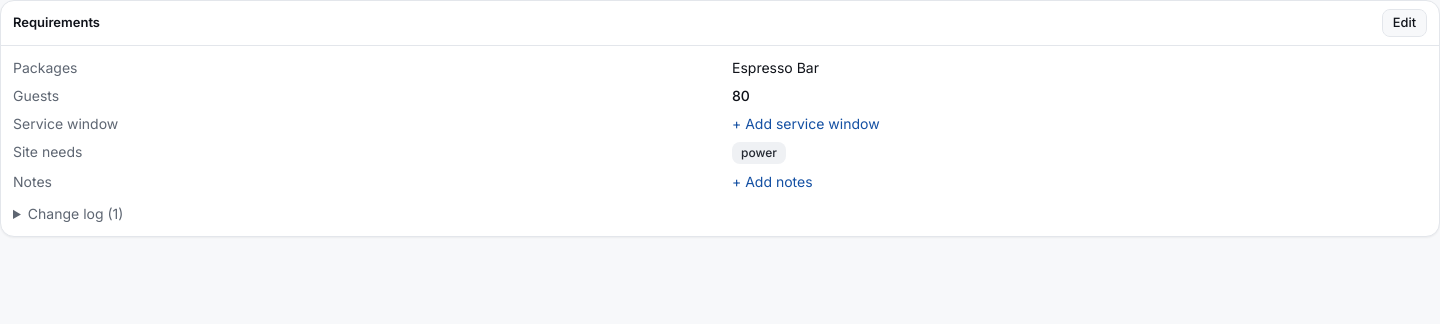
Test case: RequirementsCard › resets the draft on Cancel so re-opening Edit shows the original value
Step 1. Click the button "Edit" → (1404, 23), box [1382,9,1427,37]
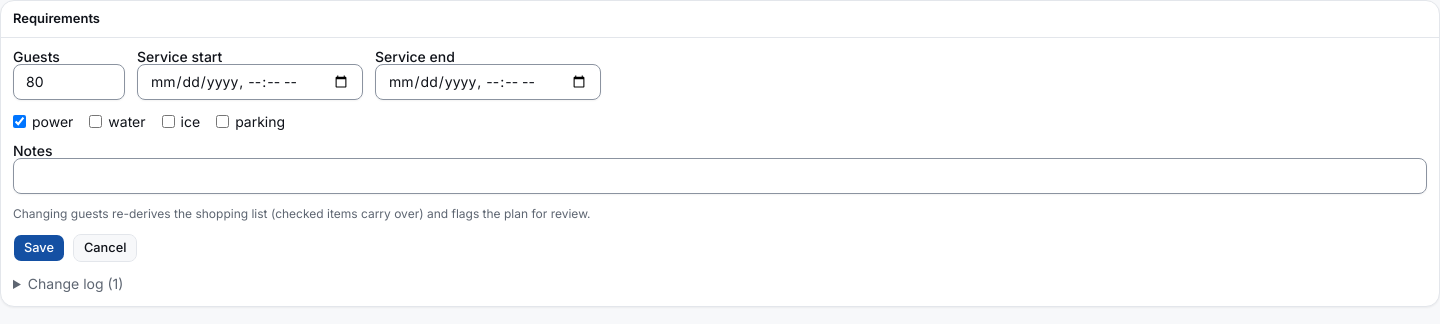
Step 2. Replace the text in the number field labelled "Guests" with "500" → (69, 82), box [13,64,125,100]
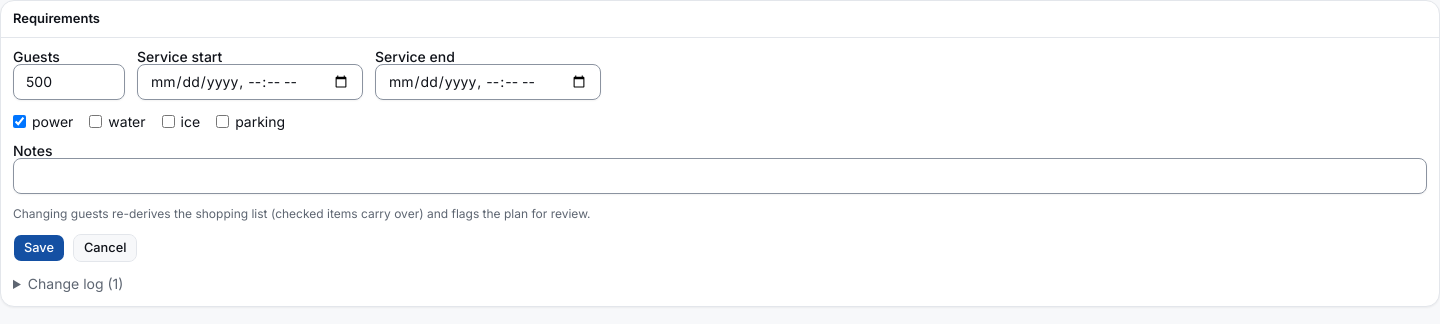
Step 3. Click the button "Cancel" → (105, 248), box [73,234,138,262]
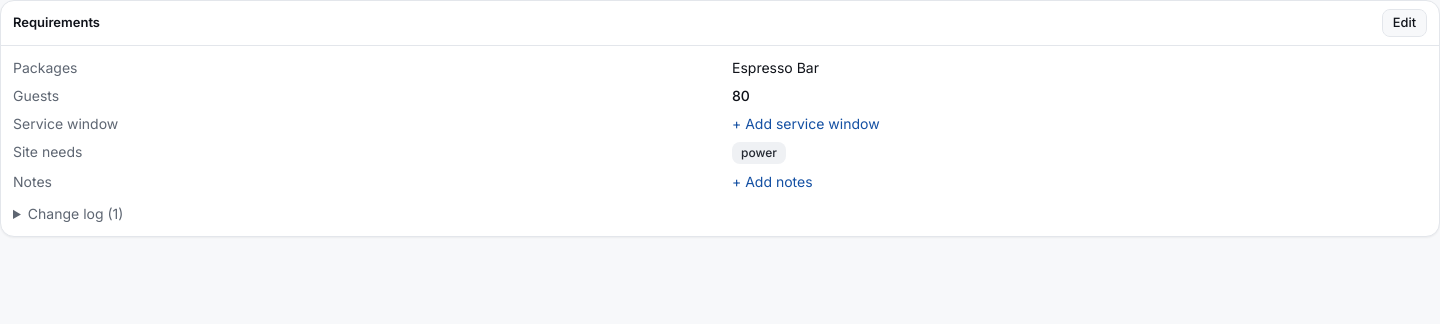
Step 4. Click the button "Edit" → (1404, 23), box [1382,9,1427,37]
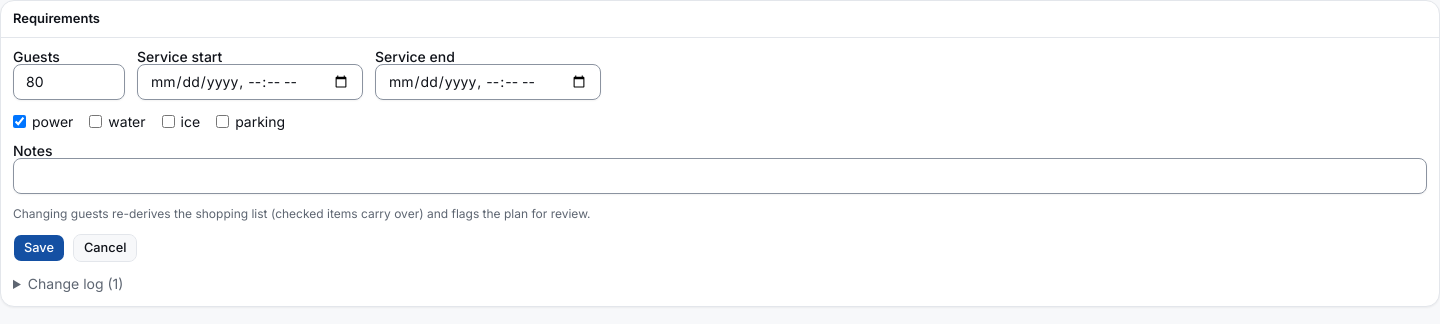
Expected: the number field labelled "Guests" holds "80", [13,64,125,100]
